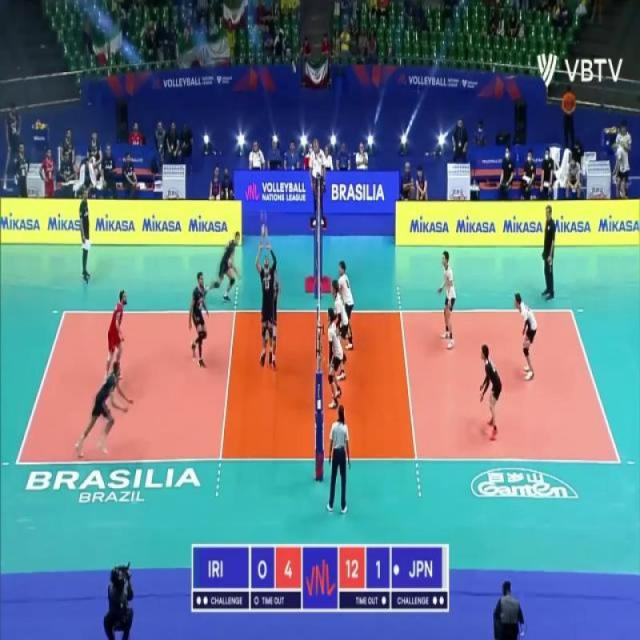volleyball: (260, 222, 268, 238), (34, 118, 41, 126), (611, 126, 617, 133), (605, 127, 610, 134)
